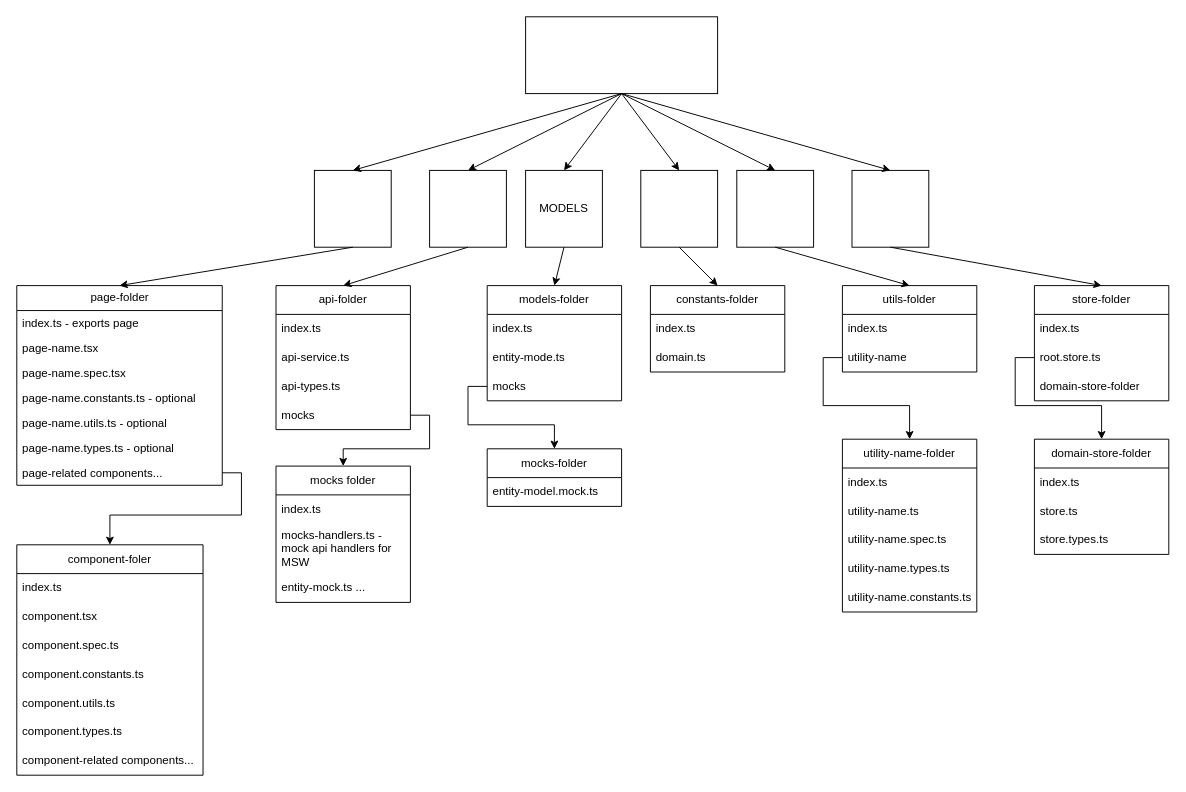
Some shapes in this 1186 by 792 pixel diagram are drawn without their labels. The centre of each missing label's shape, as x and y in pixels:
API: point (467, 208)
CONSTANTS: point (679, 208)
MODULE (Domain/ Shared): point (621, 55)
PAGES: point (352, 208)
STORE: point (890, 208)
UTILS: point (775, 208)
